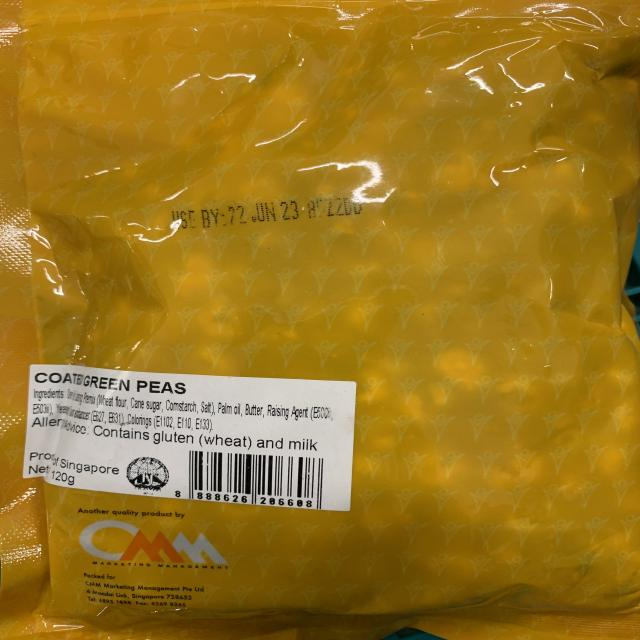object_name: (8, 0, 633, 633)
